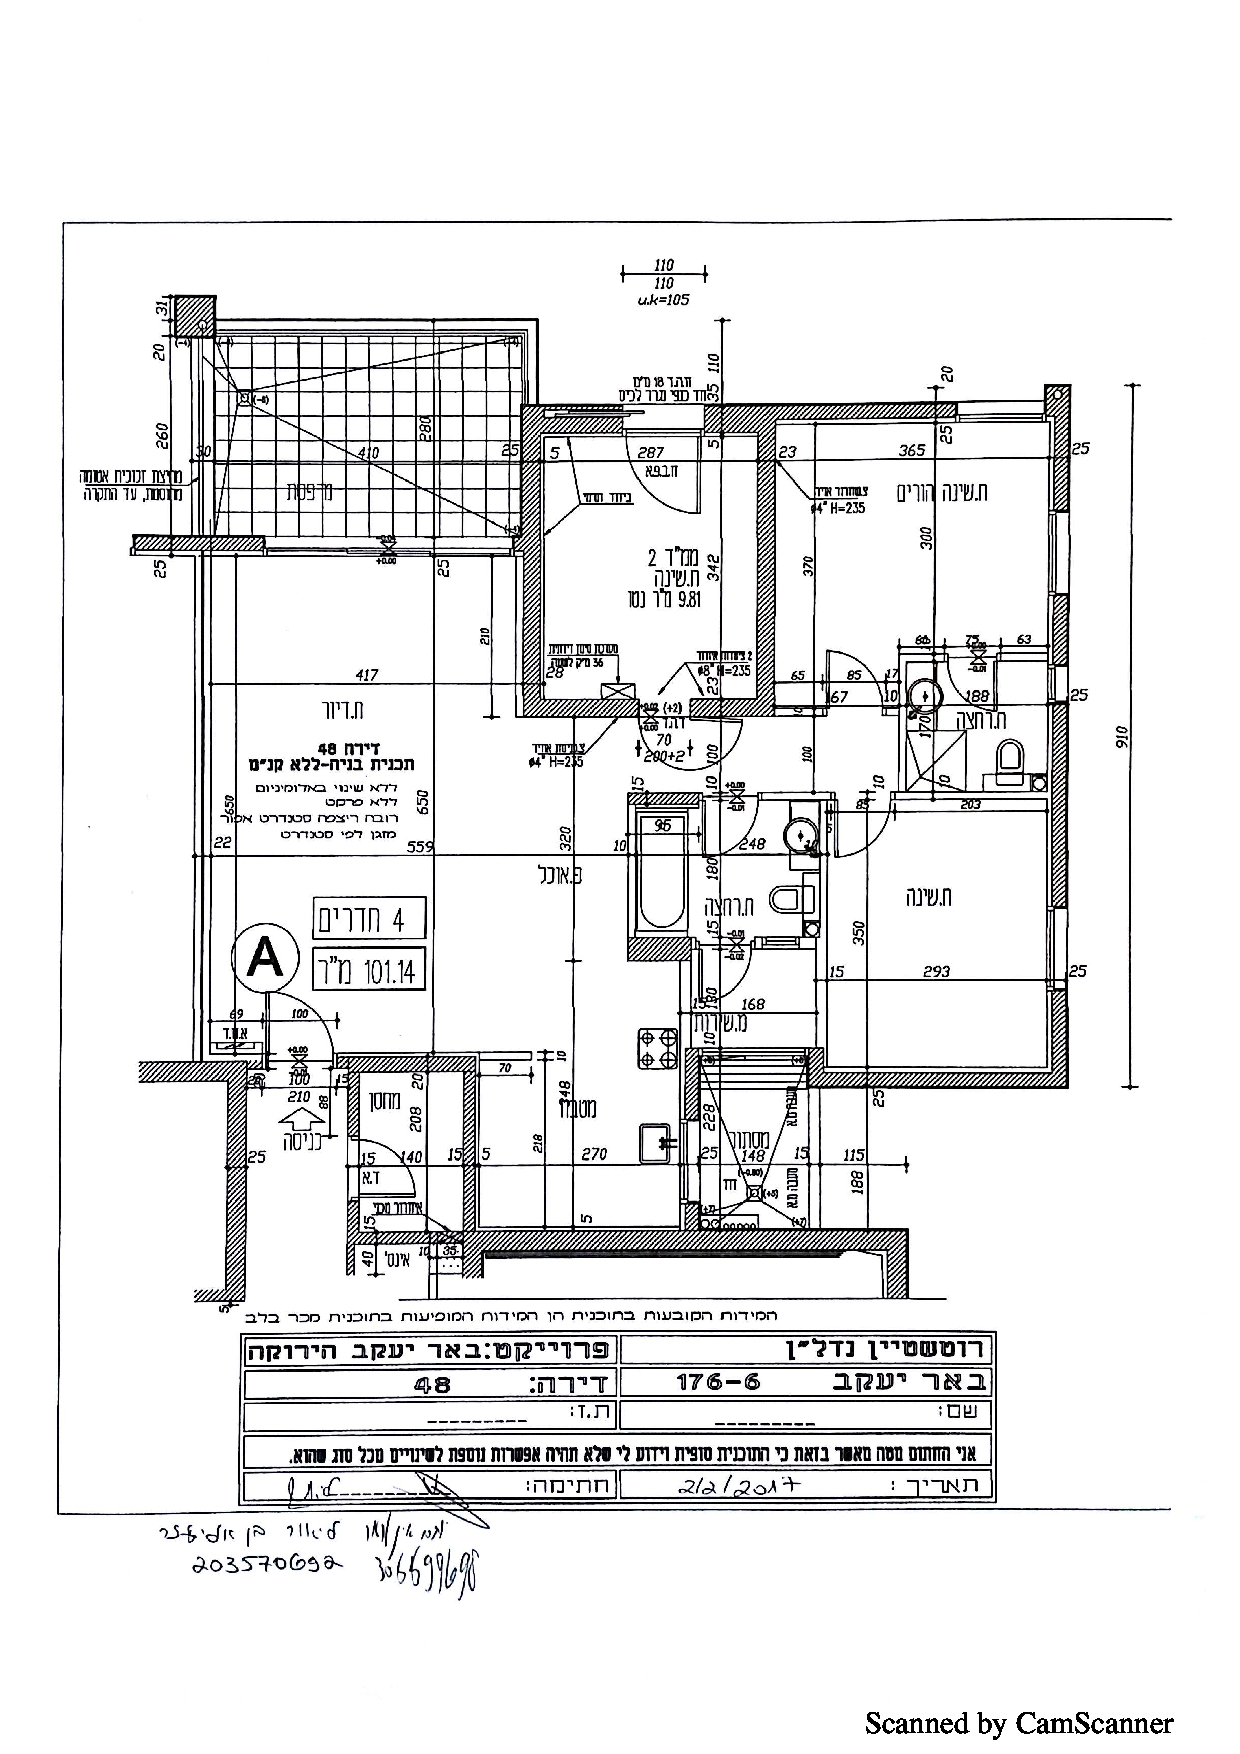door: (619, 439, 707, 519), (262, 988, 335, 1049), (366, 1139, 424, 1209), (829, 807, 895, 864), (694, 950, 760, 1007), (696, 803, 762, 859), (823, 650, 888, 706)
wall: (464, 1227, 909, 1253), (519, 407, 541, 717), (756, 404, 776, 714), (224, 1062, 244, 1300), (807, 1072, 1070, 1088), (1052, 703, 1067, 907), (774, 403, 955, 417), (464, 1056, 476, 1231)
window: (262, 534, 515, 557), (1045, 510, 1070, 595), (955, 400, 1044, 423), (1047, 907, 1070, 992), (679, 1119, 701, 1204), (1045, 664, 1071, 705)
